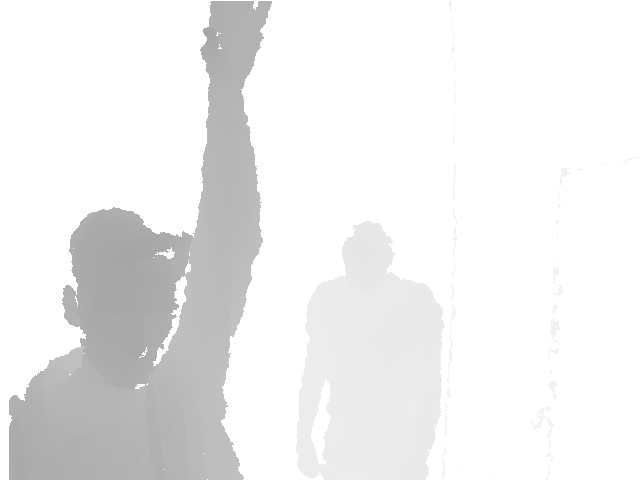hand: (199, 1, 273, 85)
head: (61, 206, 195, 392), (340, 220, 396, 290)
person: (10, 1, 272, 480), (294, 220, 446, 480)
